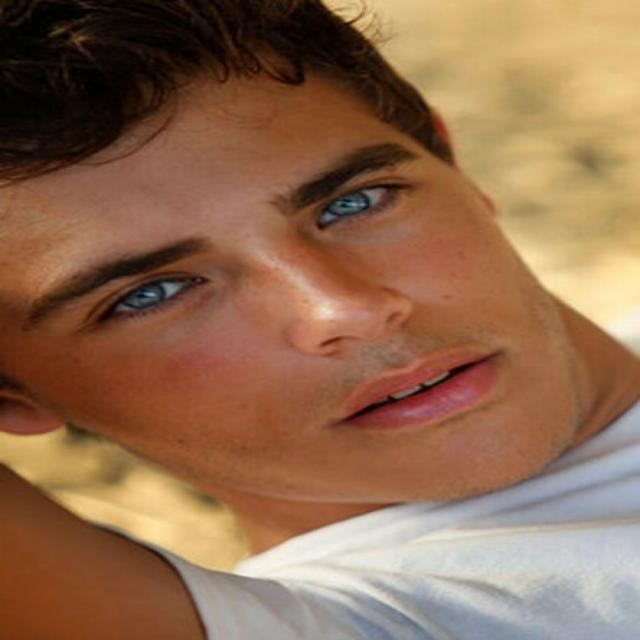earlobe: (7, 401, 54, 437)
eye: (93, 274, 203, 324), (315, 184, 402, 232)
nose: (310, 306, 440, 376)
